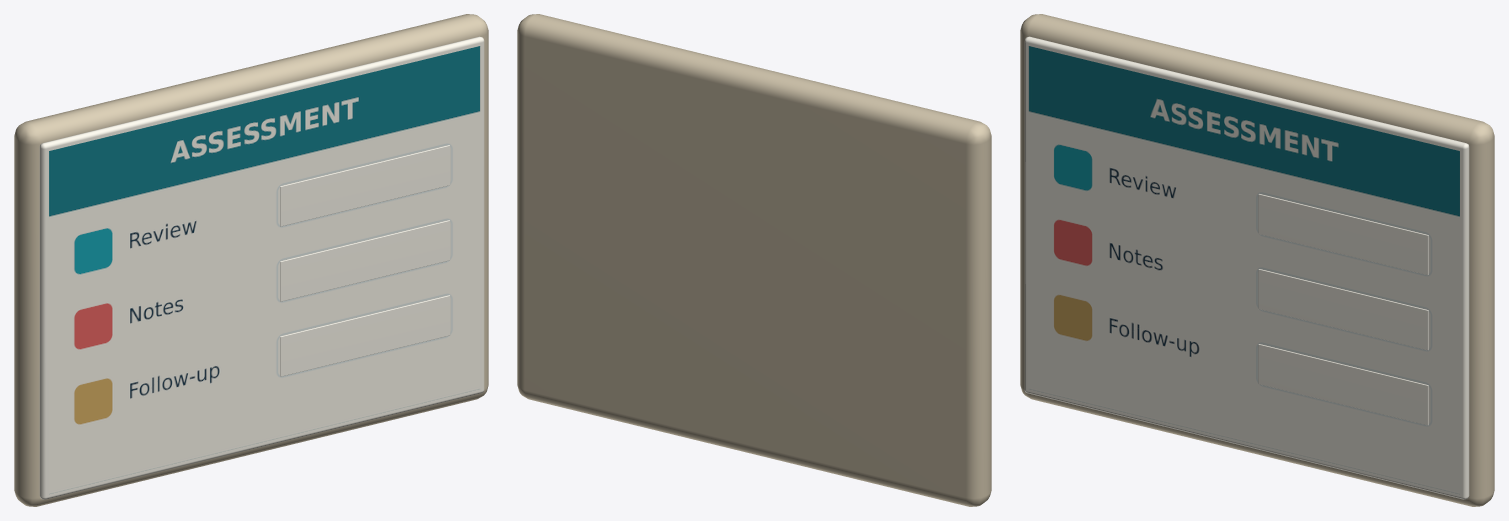
The model's file is Assessment_Board.glb.
The picture shows the model from 3 angles, left to right: view 1: azimuth 30°, elevation 25°; view 2: azimuth 150°, elevation 25°; view 3: azimuth 330°, elevation 25°; orthographic projection.
Parts seen in each view (by area): view 1: Assessment_Board__Graphics, Assessment_Board__Visual, Status_Overlay_1, Status_Overlay_2, Status_Overlay_3; view 2: Assessment_Board__Visual; view 3: Assessment_Board__Graphics, Assessment_Board__Visual, Status_Overlay_2, Status_Overlay_3, Status_Overlay_1.
Part boxes in pixels (x1,y1,x2,y2): Assessment_Board__Graphics: [49, 46, 480, 494]; Assessment_Board__Visual: [14, 14, 488, 506]; Status_Overlay_1: [280, 145, 450, 226]; Status_Overlay_2: [280, 220, 450, 301]; Status_Overlay_3: [280, 295, 450, 376]; Assessment_Board__Visual: [517, 14, 991, 506]; Assessment_Board__Graphics: [1028, 46, 1459, 494]; Assessment_Board__Visual: [1020, 14, 1494, 506]; Status_Overlay_2: [1258, 269, 1428, 350]; Status_Overlay_3: [1258, 344, 1428, 425]; Status_Overlay_1: [1258, 194, 1428, 275].
Bounding box in the file's own units: 0.77 × 0.6 × 0.0662.
Materials: 2 (2 with a texture image).
